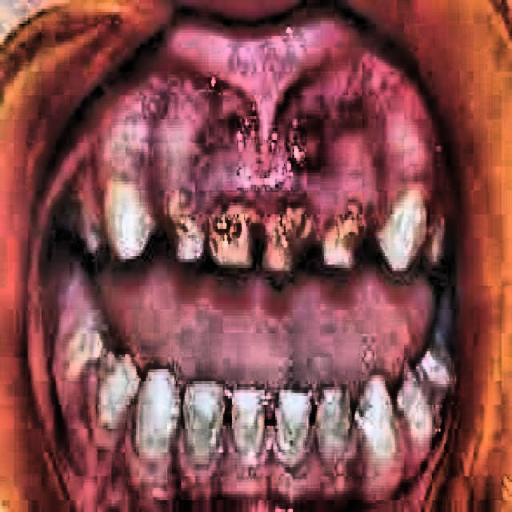Caries: (100, 177, 400, 290)
